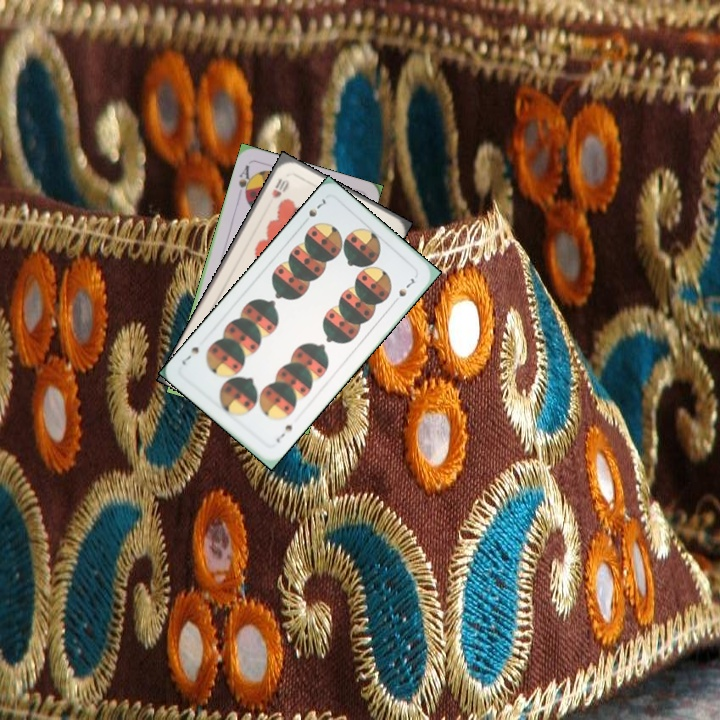H10: (267, 174, 291, 200)
S7: (304, 194, 329, 220), (272, 420, 295, 446)
SA: (234, 161, 255, 202)
